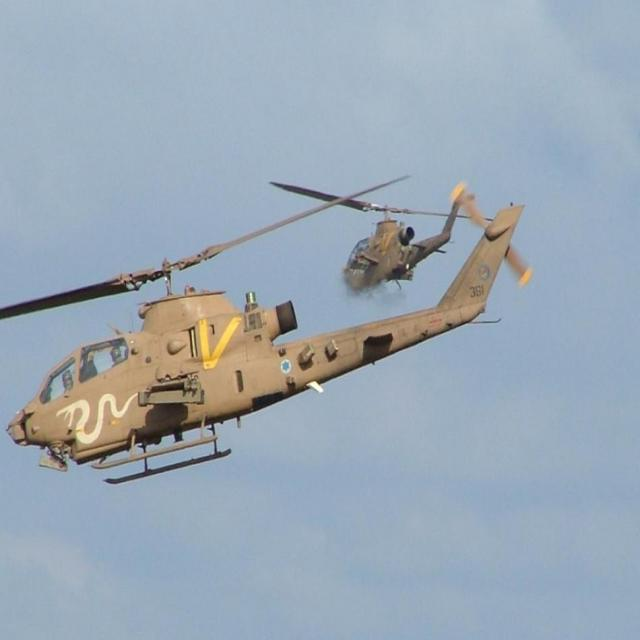MIL_HELO: (1, 174, 544, 492), (277, 167, 510, 306)
